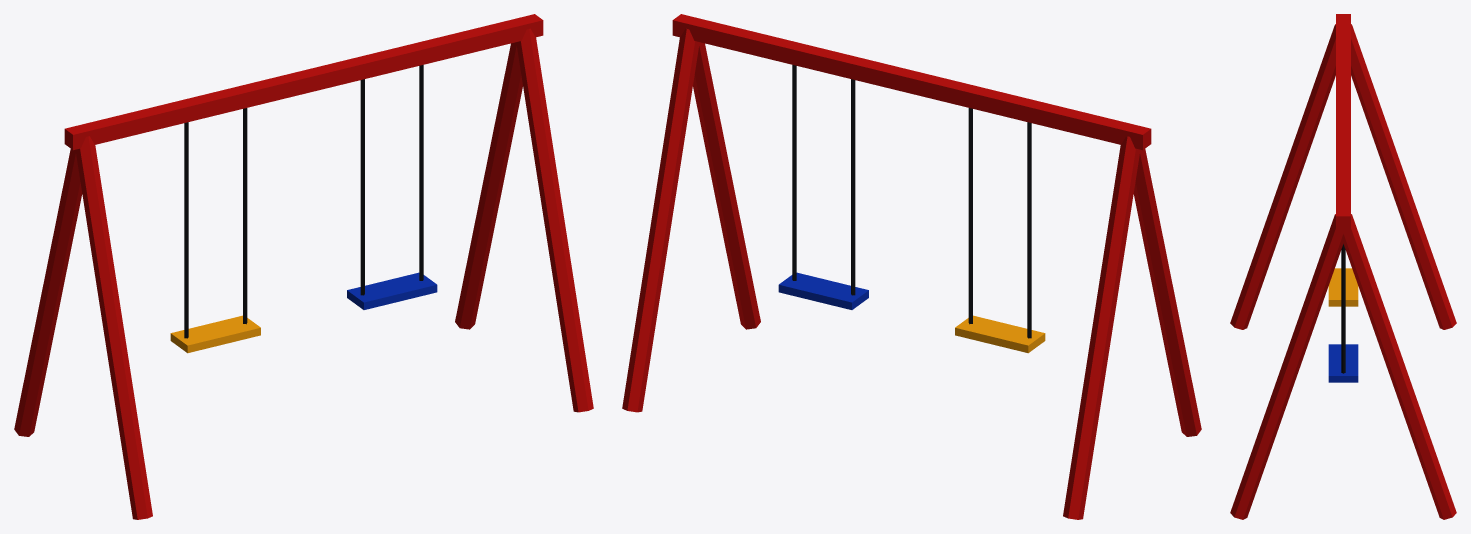
Rendered from swing_set.obj.
The picture shows the model from 3 angles, left to right: view 1: azimuth 30°, elevation 25°; view 2: azimuth 150°, elevation 25°; view 3: azimuth 270°, elevation 25°; orthographic projection. The views are drawn at different scales.
Visible parts, largest first — view 1: swing_set; view 2: swing_set; view 3: swing_set.
Boxes of the visible parts, x1=… form: swing_set: x1=14, y1=14, x2=593, y2=519; swing_set: x1=622, y1=14, x2=1201, y2=519; swing_set: x1=1230, y1=14, x2=1456, y2=519.
Size of the model in its own units: 3.2 by 2.27 by 1.51.
